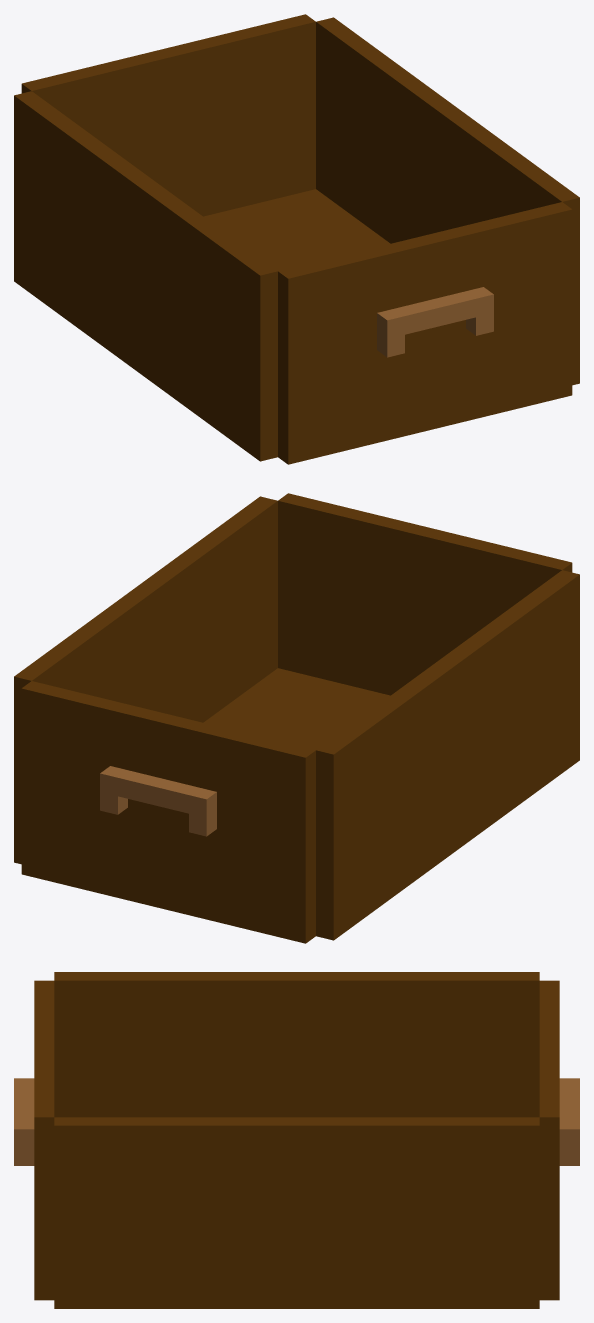
The model's file is Crate C.obj.
3 renders of one model, top to bottom at view 1: azimuth 30°, elevation 25°; view 2: azimuth 150°, elevation 25°; view 3: azimuth 270°, elevation 25°, orthographic.
Parts seen in each view (by area): view 1: Crate C; view 2: Crate C; view 3: Crate C.
Boxes of the visible parts, left/top/right/bottom form: Crate C: left=14, top=14, right=579, bottom=464; Crate C: left=14, top=493, right=579, bottom=943; Crate C: left=14, top=972, right=579, bottom=1308.
Size of the model in its own units: 18 by 10 by 28.
